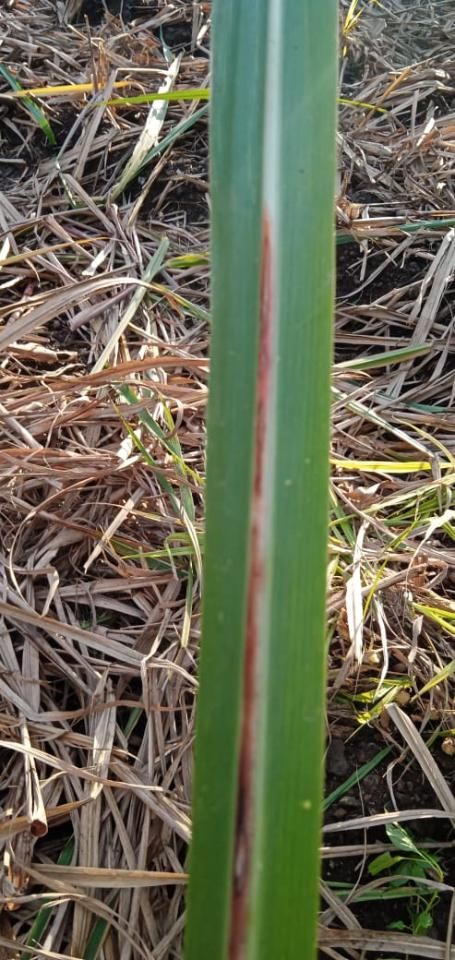RedRot: (230, 512, 268, 959), (250, 201, 275, 515)
